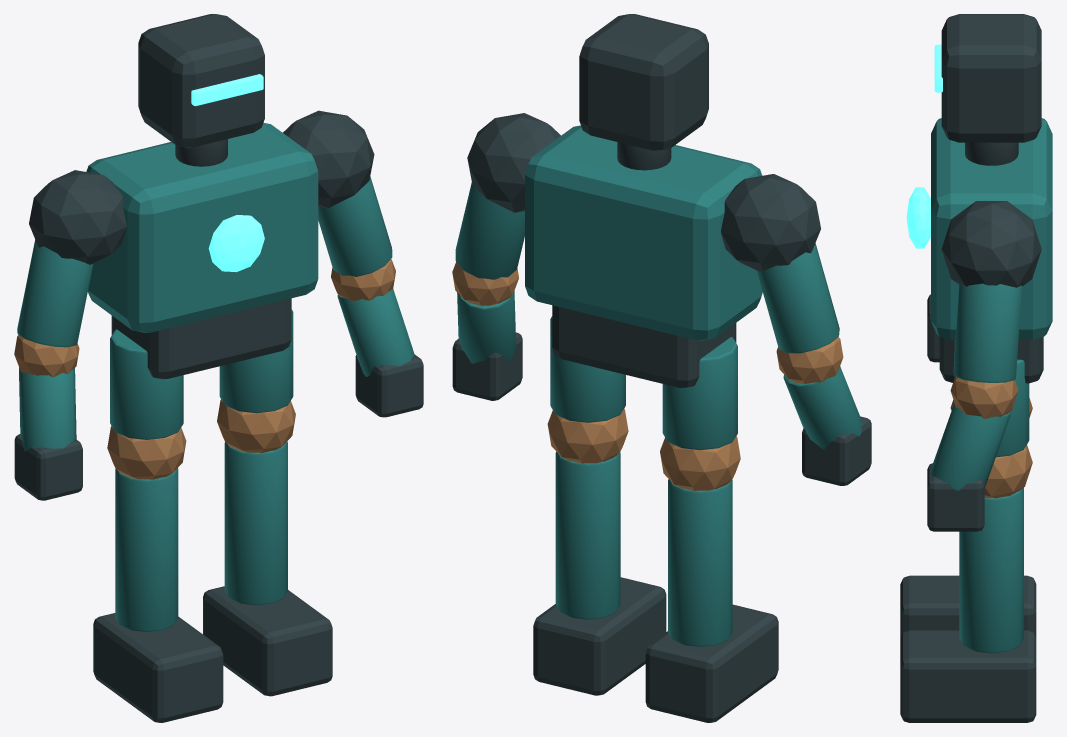
File: SM_SentinelTarget.fbx
The picture shows the model from 3 angles, left to right: view 1: azimuth 30°, elevation 25°; view 2: azimuth 150°, elevation 25°; view 3: azimuth 270°, elevation 25°; orthographic projection. The views are drawn at different scales.
Visible parts, largest first — view 1: SM_SentinelTarget; view 2: SM_SentinelTarget; view 3: SM_SentinelTarget.
Boxes of the visible parts, x1=… form: SM_SentinelTarget: x1=14, y1=14, x2=423, y2=722; SM_SentinelTarget: x1=452, y1=14, x2=871, y2=722; SM_SentinelTarget: x1=900, y1=14, x2=1052, y2=722.
Size of what is drawn, in the model's own units: 1.27 by 0.425 by 2.01.
